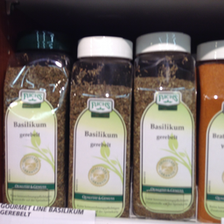spices: (134, 31, 197, 221), (69, 35, 133, 222), (3, 28, 69, 208)
